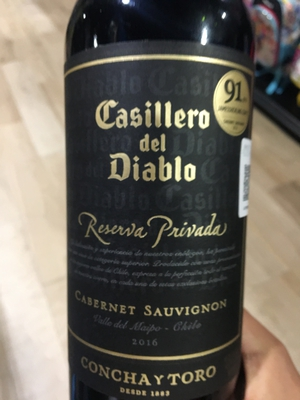casillero del diablo reserva privada cabernet sauvignon: (55, 6, 256, 400)
